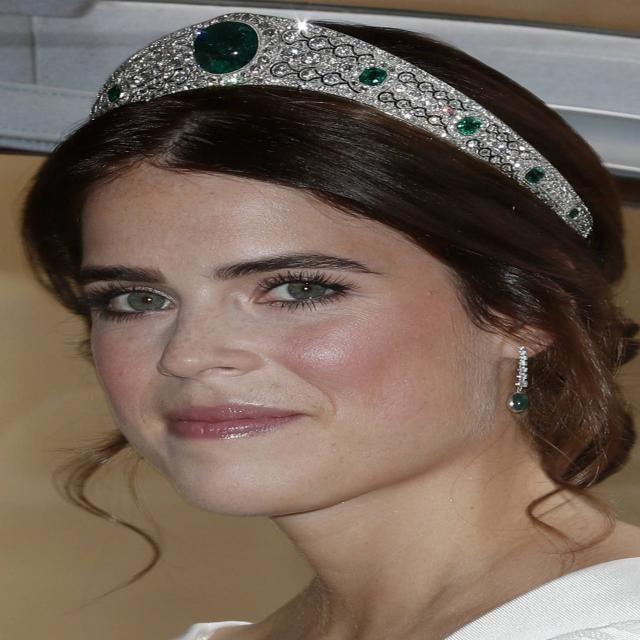Earring: (508, 342, 556, 424)
